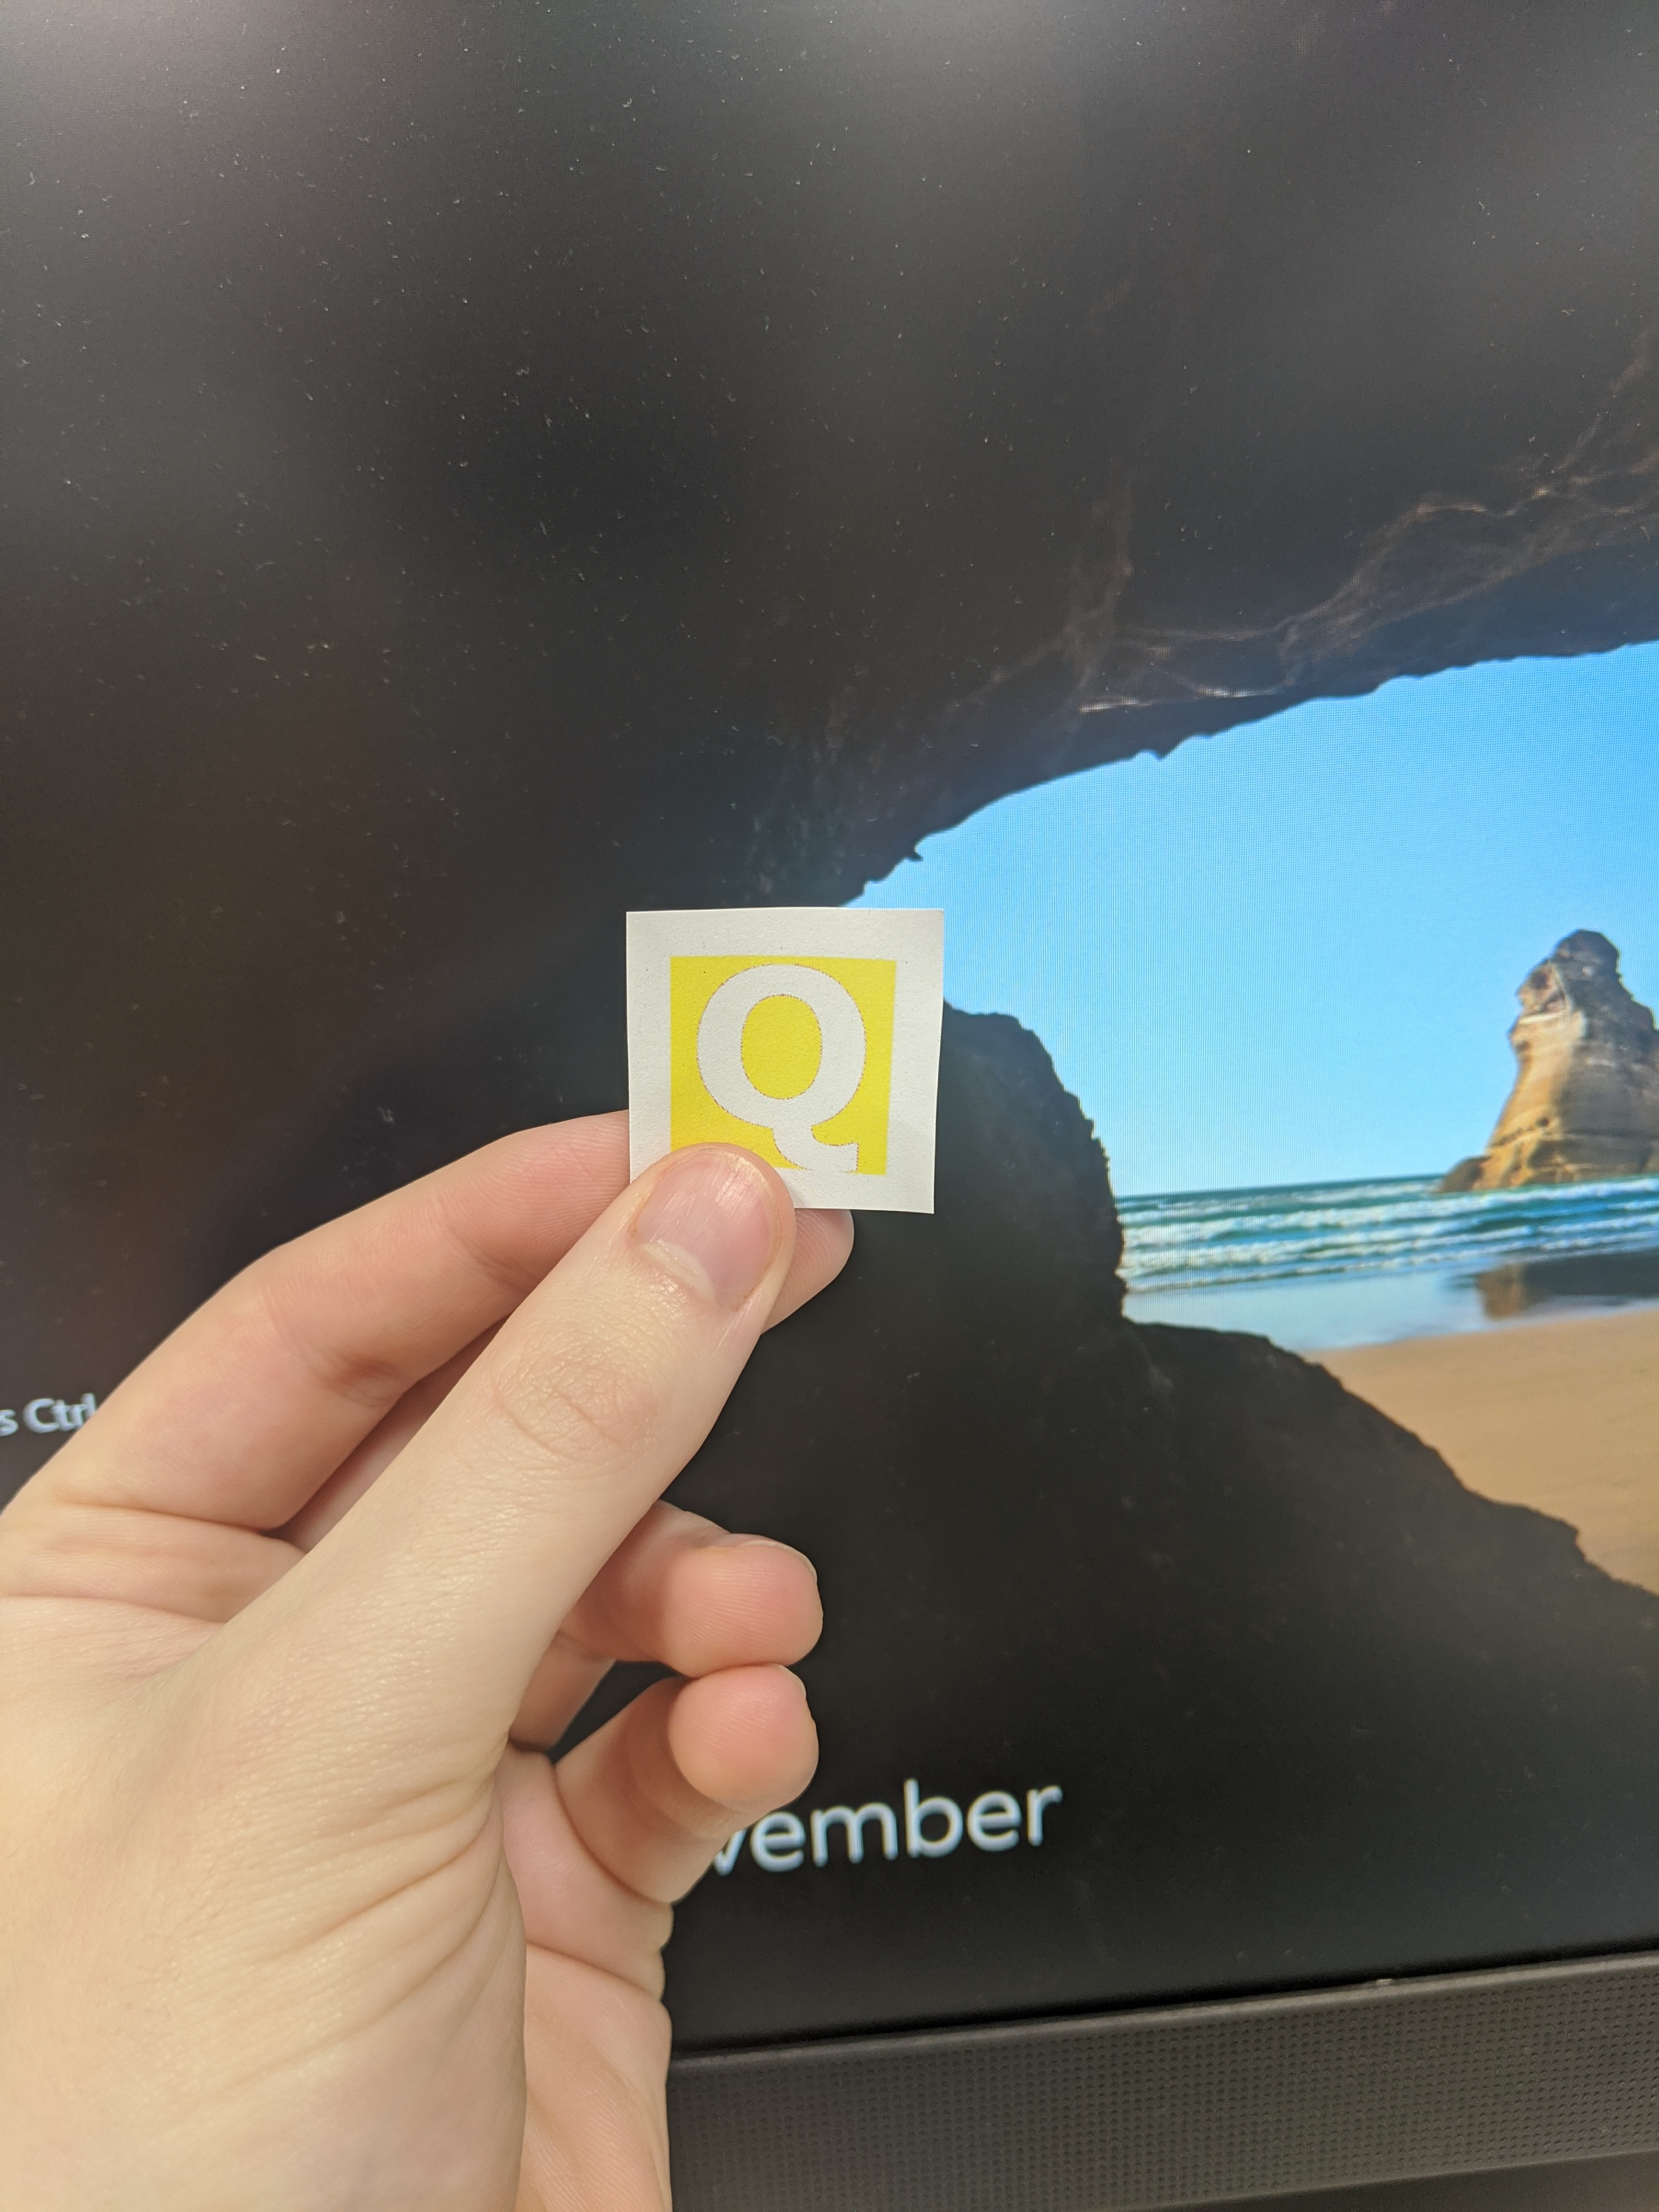yellow marker: (608, 890, 967, 1237)
